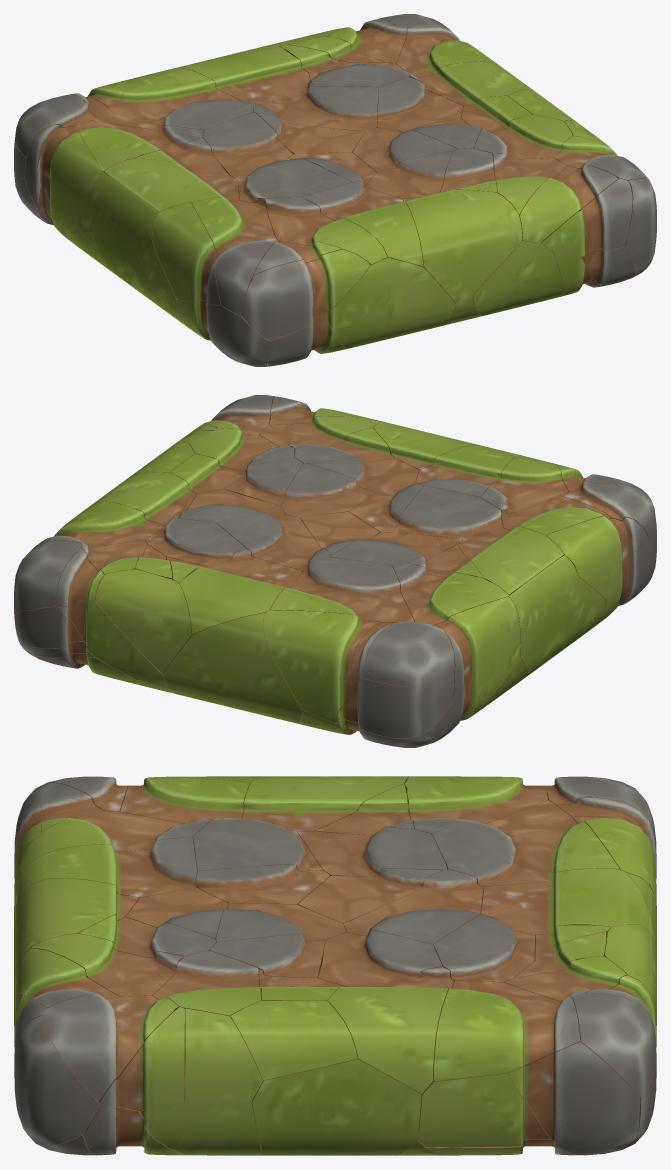
The model's file is arena block 2 broken.fbx.
The picture shows the model from 3 angles, top to bottom: view 1: azimuth 30°, elevation 25°; view 2: azimuth 150°, elevation 25°; view 3: azimuth 270°, elevation 25°; orthographic projection. The views are drawn at different scales.
Visible parts, largest first — view 1: arena block 2 lp_cell.048, arena block 2 lp_cell.031, arena block 2 lp_cell.015, arena block 2 lp_cell.012, arena block 2 lp_cell.037, arena block 2 lp_cell.086, arena block 2 lp_cell.091, arena block 2 lp_cell.034, arena block 2 lp_cell.074, arena block 2 lp_cell.054, arena block 2 lp_cell.095, arena block 2 lp_cell.007 (+40 smaller); view 2: arena block 2 lp_cell.096, arena block 2 lp_cell.055, arena block 2 lp_cell.094, arena block 2 lp_cell.012, arena block 2 lp_cell.037, arena block 2 lp_cell.074, arena block 2 lp_cell.049, arena block 2 lp_cell.025, arena block 2 lp_cell.091, arena block 2 lp_cell.086, arena block 2 lp_cell.054, arena block 2 lp_cell.041 (+39 smaller); view 3: arena block 2 lp_cell.078, arena block 2 lp_cell.035, arena block 2 lp_cell.037, arena block 2 lp_cell.087, arena block 2 lp_cell.003, arena block 2 lp_cell.074, arena block 2 lp_cell.010, arena block 2 lp_cell.080, arena block 2 lp_cell.022, arena block 2 lp_cell.034, arena block 2 lp_cell.071, arena block 2 lp_cell.054 (+41 smaller).
Part boxes in pixels (box(x1,y1,x2,y2)): arena block 2 lp_cell.048: box(402, 189, 522, 303); arena block 2 lp_cell.031: box(324, 257, 455, 348); arena block 2 lp_cell.015: box(241, 249, 370, 340); arena block 2 lp_cell.012: box(24, 124, 102, 233); arena block 2 lp_cell.037: box(92, 68, 253, 131); arena block 2 lp_cell.086: box(152, 202, 221, 305); arena block 2 lp_cell.091: box(91, 172, 158, 286); arena block 2 lp_cell.034: box(301, 181, 423, 267); arena block 2 lp_cell.074: box(181, 46, 312, 112); arena block 2 lp_cell.054: box(104, 158, 239, 212); arena block 2 lp_cell.095: box(473, 240, 563, 315); arena block 2 lp_cell.007: box(253, 86, 378, 132); arena block 2 lp_cell.096: box(163, 612, 301, 723); arena block 2 lp_cell.055: box(263, 610, 379, 722); arena block 2 lp_cell.094: box(95, 569, 191, 673); arena block 2 lp_cell.012: box(433, 596, 520, 717); arena block 2 lp_cell.037: box(270, 557, 414, 622); arena block 2 lp_cell.074: box(179, 549, 302, 636); arena block 2 lp_cell.049: box(336, 678, 454, 738); arena block 2 lp_cell.025: box(364, 621, 454, 687); arena block 2 lp_cell.091: box(508, 555, 578, 676); arena block 2 lp_cell.086: box(546, 516, 649, 598); arena block 2 lp_cell.054: box(457, 526, 563, 595); arena block 2 lp_cell.041: box(393, 485, 503, 539); arena block 2 lp_cell.078: box(252, 1059, 421, 1155); arena block 2 lp_cell.035: box(433, 980, 579, 1081); arena block 2 lp_cell.037: box(432, 800, 619, 892); arena block 2 lp_cell.087: box(508, 1041, 640, 1154); arena block 2 lp_cell.003: box(327, 967, 453, 1095); arena block 2 lp_cell.074: box(480, 868, 655, 960); arena block 2 lp_cell.010: box(42, 993, 179, 1102); arena block 2 lp_cell.080: box(418, 1066, 550, 1146); arena block 2 lp_cell.022: box(230, 1000, 357, 1080); arena block 2 lp_cell.034: box(15, 837, 197, 911); arena block 2 lp_cell.071: box(14, 1015, 99, 1145); arena block 2 lp_cell.054: box(242, 776, 408, 831).
Bounding box in the file's own units: 200 × 49.89 × 200.
